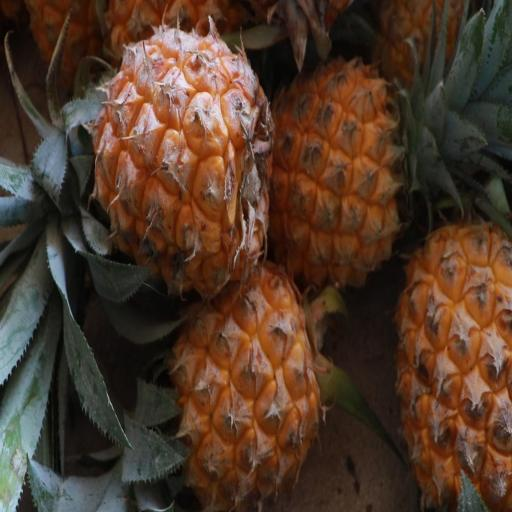Pineapple - v8 v1: (22, 28, 276, 322), (264, 42, 443, 298), (149, 255, 325, 503), (392, 207, 511, 512)
